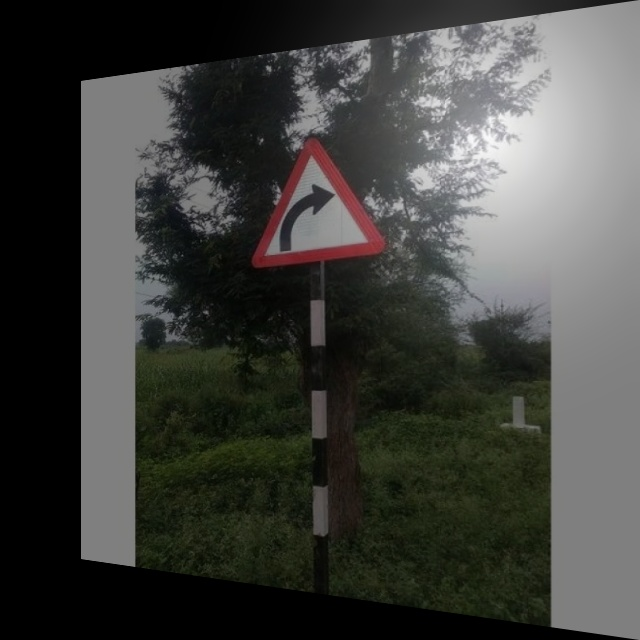Right_Hand_Curve: (248, 128, 391, 266)
